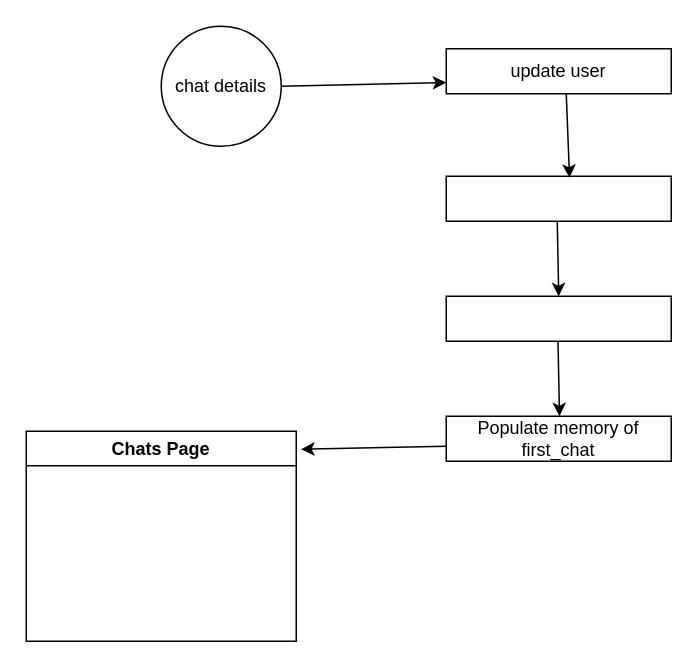
This 698x668 diagram has some shape labels left out. The centre of each missing label's shape, as x and y in pixels:
chat_details_of_first_chat: pixel 558 318
load chats: pixel 558 198
